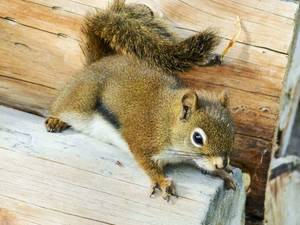Ardilla: (102, 55, 242, 190)
